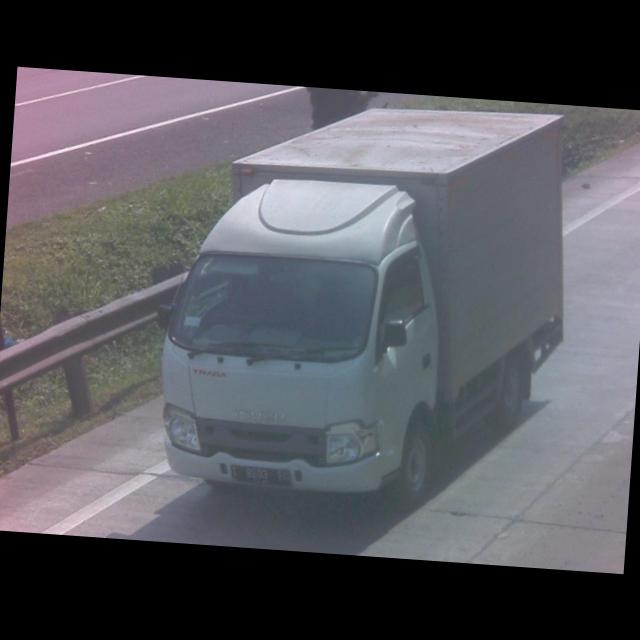plate: (225, 460, 295, 492)
